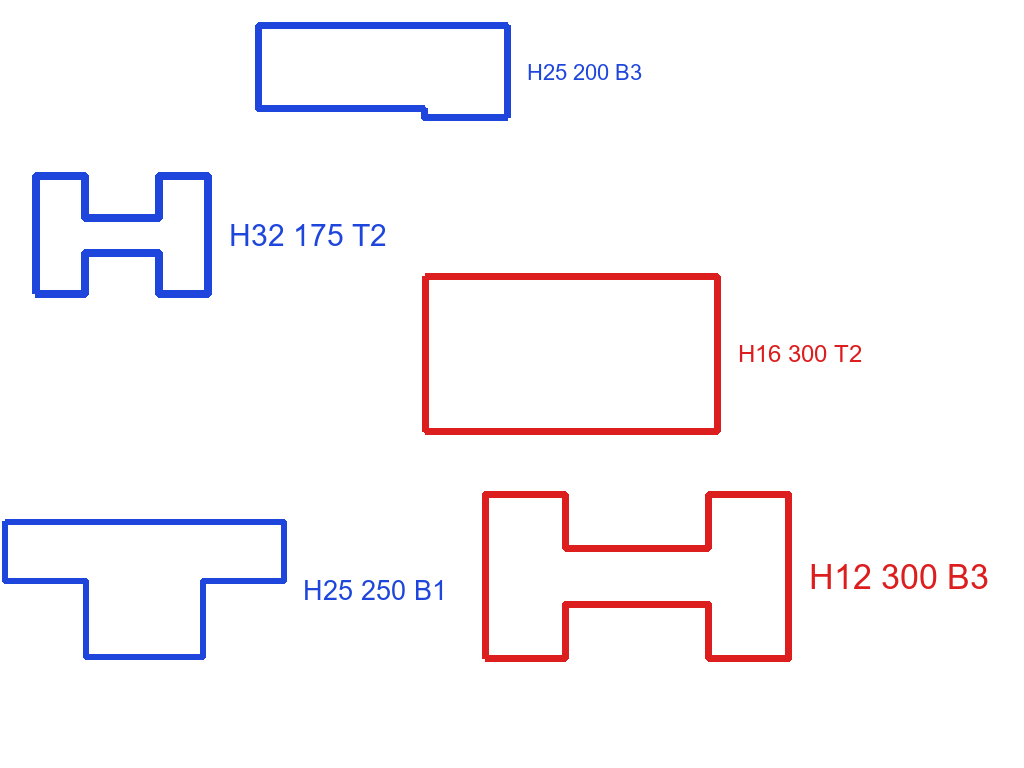shape: (480, 489, 794, 664), (420, 271, 723, 437), (0, 517, 288, 663), (253, 20, 513, 123), (30, 170, 215, 300)
text: (807, 562, 991, 591), (227, 222, 389, 248), (301, 578, 449, 602), (736, 343, 864, 364), (525, 62, 644, 82)
